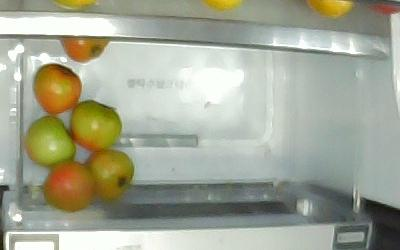tomato: (23, 115, 76, 169), (30, 62, 83, 114), (69, 100, 122, 151), (82, 149, 134, 199), (45, 161, 93, 212), (59, 39, 111, 64)
